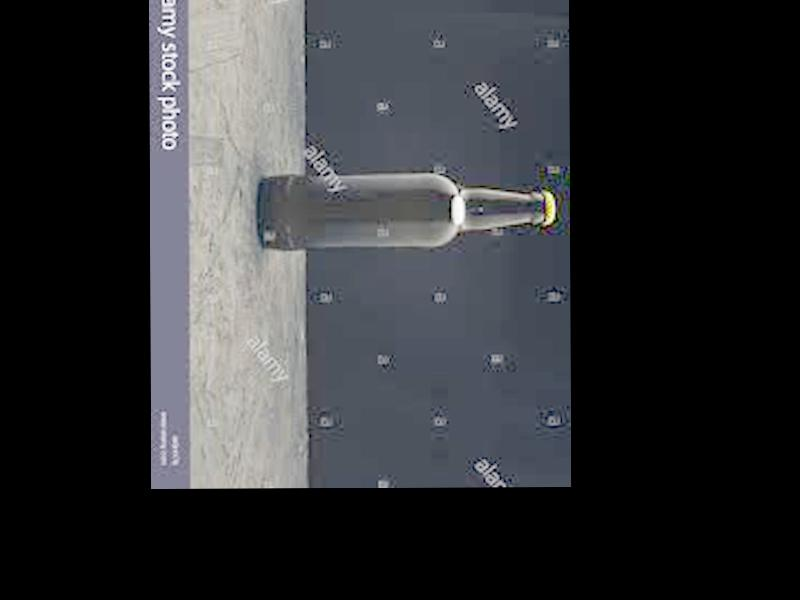Beer: (258, 179, 554, 249)
